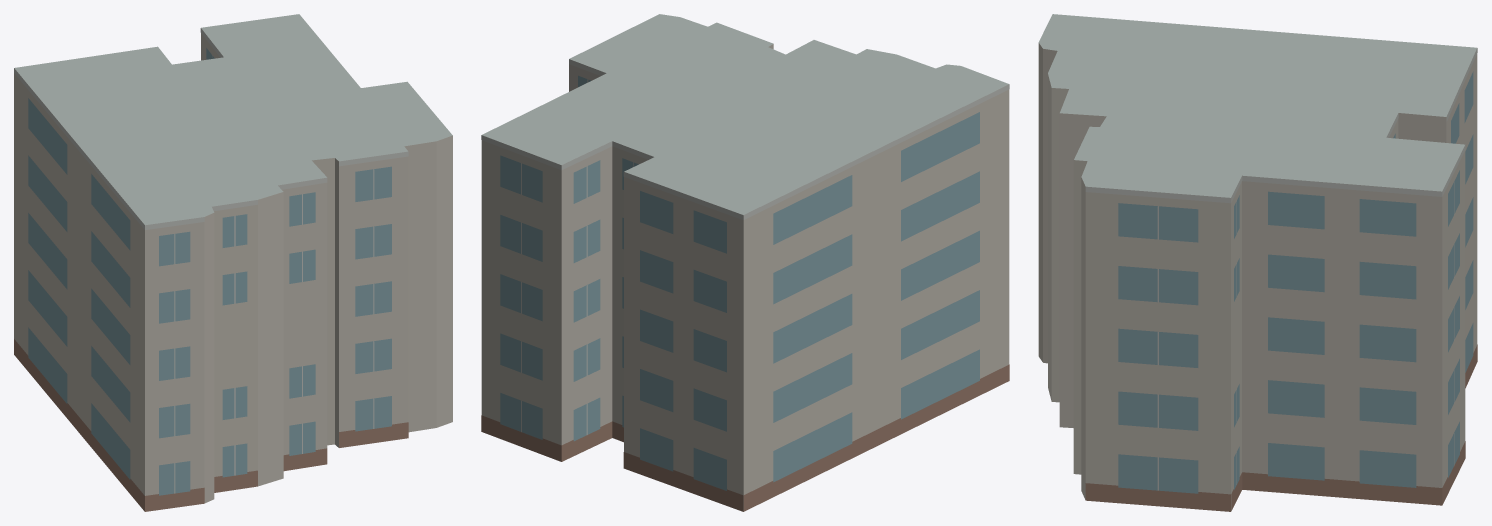
File: survey-upis-32710954.glb
3 renders of one model, left to right at view 1: azimuth 30°, elevation 25°; view 2: azimuth 150°, elevation 25°; view 3: azimuth 270°, elevation 25°, orthographic. The views are drawn at different scales.
Parts seen in each view (by area): view 1: survey-upis-32710954.tmp; view 2: survey-upis-32710954.tmp; view 3: survey-upis-32710954.tmp.
Part boxes in pixels (left/top/right/bottom): survey-upis-32710954.tmp: left=14, top=14, right=452, bottom=511; survey-upis-32710954.tmp: left=481, top=14, right=1009, bottom=511; survey-upis-32710954.tmp: left=1038, top=14, right=1477, bottom=511.
Size of the model in its own units: 17.84 by 14.2 by 18.
